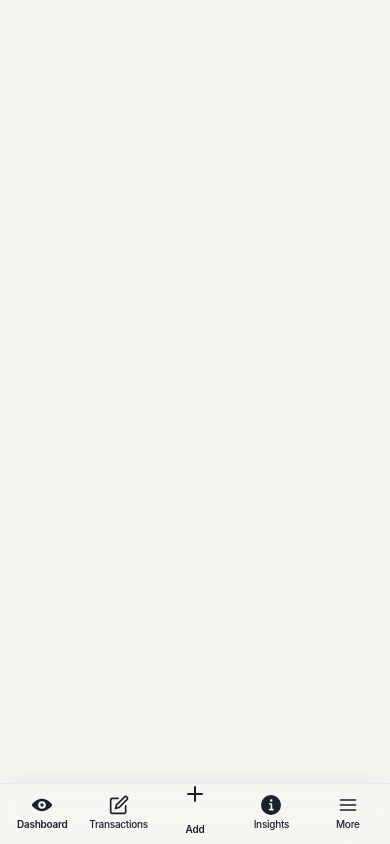
Scenario: BottomNav › opens the More sheet with the secondary destinations when tapped
Expected: the link "categories" is not shown
Click the button "More". click: (348, 812)
box: [310, 788, 386, 836]
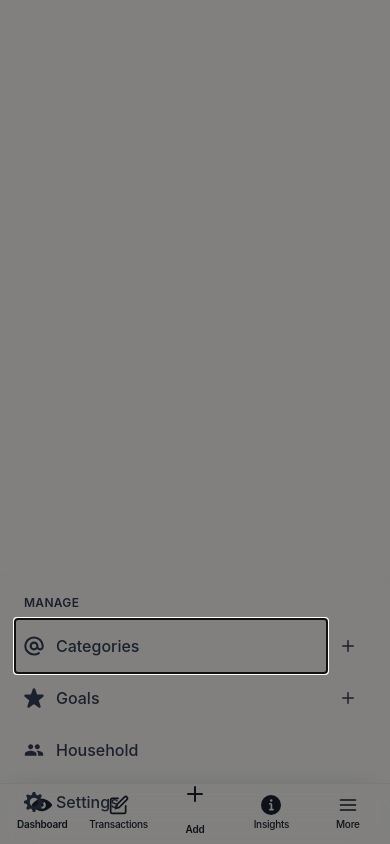
Expected: the link "Categories" is shown, [24, 636, 140, 656]
Expected: the link "Goals" is shown, [24, 688, 100, 708]
Expected: the link "Household" is shown, [24, 740, 138, 760]
